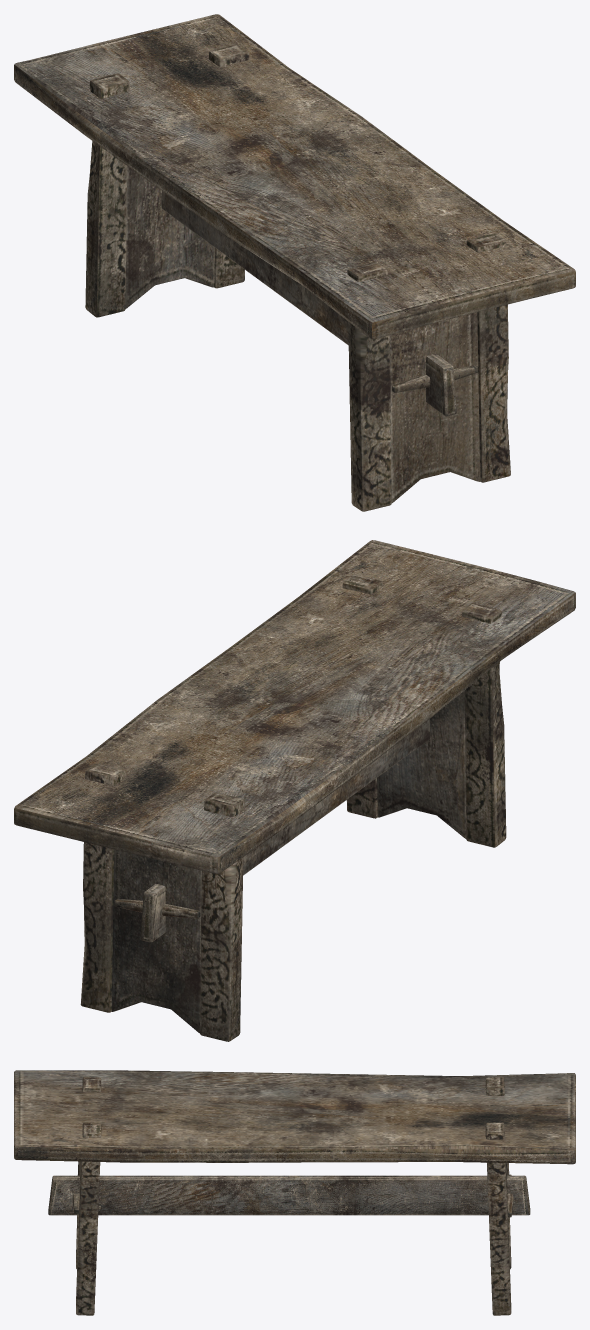
Rendered from bench.glb.
The picture shows the model from 3 angles, top to bottom: view 1: azimuth 30°, elevation 25°; view 2: azimuth 150°, elevation 25°; view 3: azimuth 270°, elevation 25°; orthographic projection. The views are drawn at different scales.
Parts seen in each view (by area): view 1: Bench__0; view 2: Bench__0; view 3: Bench__0.
Part boxes in pixels (x1,y1,x2,y2): Bench__0: (14, 14, 575, 511); Bench__0: (14, 540, 575, 1041); Bench__0: (14, 1070, 575, 1315).
Size of the model in its own units: 59.14 by 64.19 by 179.
Materials: 1 (1 with a texture image).
